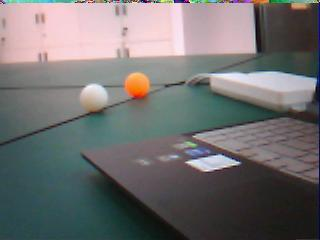oball: (124, 73, 149, 97)
